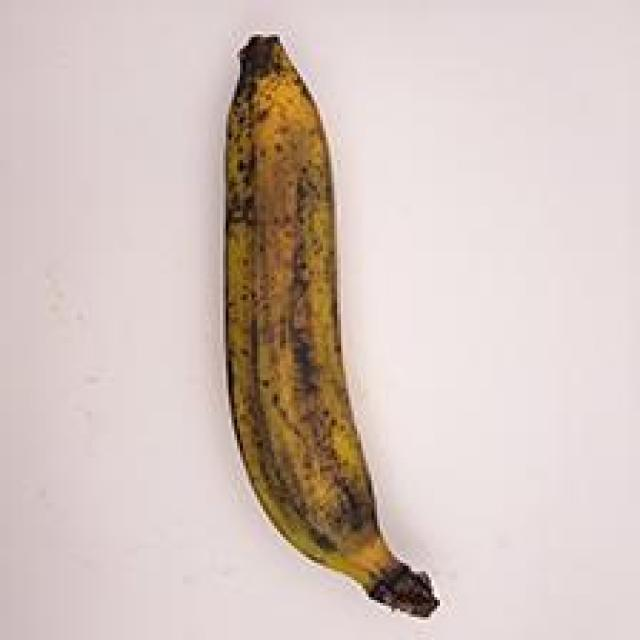Overripe: (153, 25, 481, 629)
